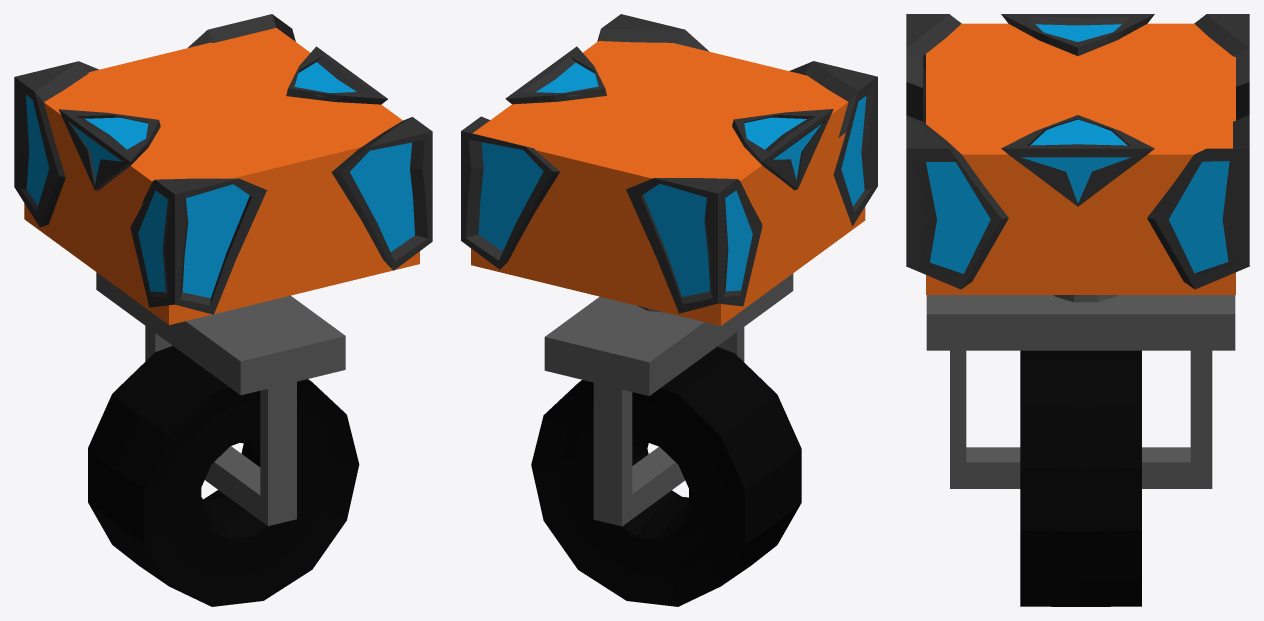
The model's file is SteeringWheel.fbx.
3 views of the same model, side by side, from view 1: azimuth 30°, elevation 25°; view 2: azimuth 150°, elevation 25°; view 3: azimuth 270°, elevation 25° (orthographic). The views are drawn at different scales.
Visible parts, largest first — view 1: Cube.002, Torus, Cube.004, Cube.003; view 2: Cube.002, Torus, Cube.004, Cube.003; view 3: Cube.002, Cube.004, Torus, Cube.003.
Boxes of the visible parts, x1,y1,x2,y2 form: Cube.002: (24,28,419,325); Torus: (88,346,359,606); Cube.004: (14,14,432,314); Cube.003: (96,272,345,526); Cube.002: (471,41,865,325); Torus: (531,347,801,606); Cube.004: (461,14,877,313); Cube.003: (544,273,793,526); Cube.002: (926,23,1235,294); Cube.004: (906,14,1249,289); Torus: (1020,350,1141,606); Cube.003: (926,295,1235,488).
Bounding box in the file's own units: 206 × 366 × 222.
